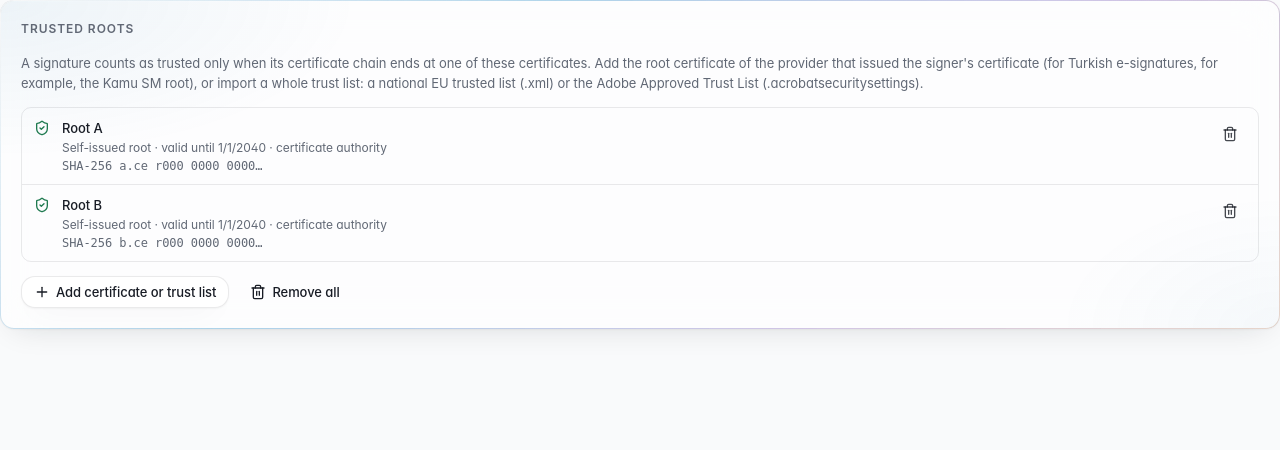
Test case: TrustRootsSection › reviews a single certificate that does not come from a certificate file
Expected: the text "Root A" is shown, x1=62 y1=120 x2=103 y2=136
Click the button "Add certificate or trust list" at [125, 292], box x1=21 y1=276 x2=229 y2=308
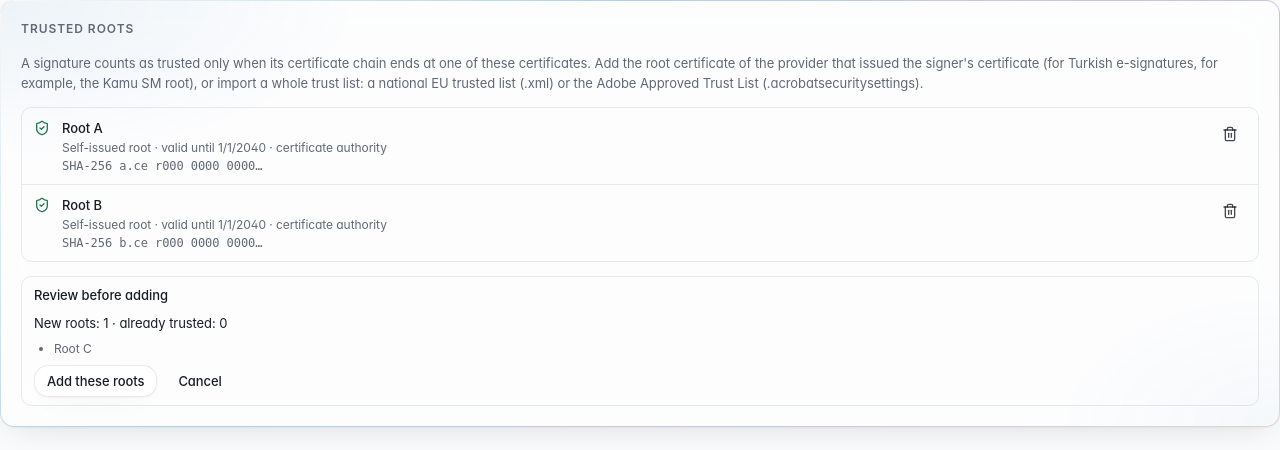
Result: the element "Review before adding" is shown at x1=21 y1=276 x2=1259 y2=406
